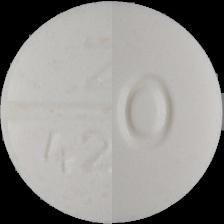0093-4237: (0, 0, 224, 224)
